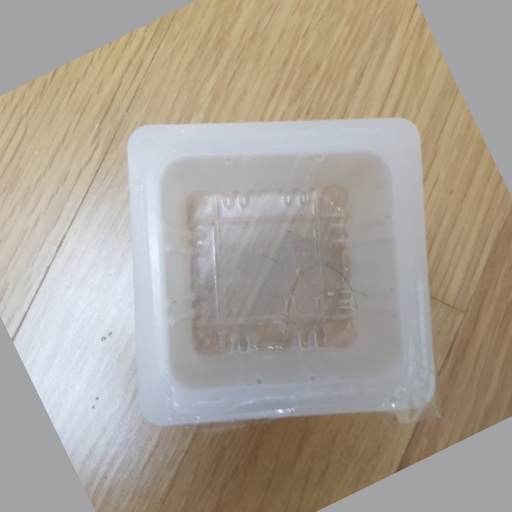Plastic_4: (121, 117, 440, 429)
